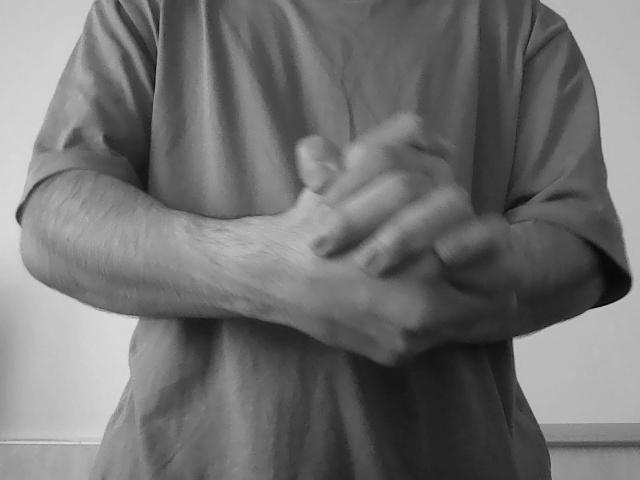friend: (279, 108, 535, 368)
